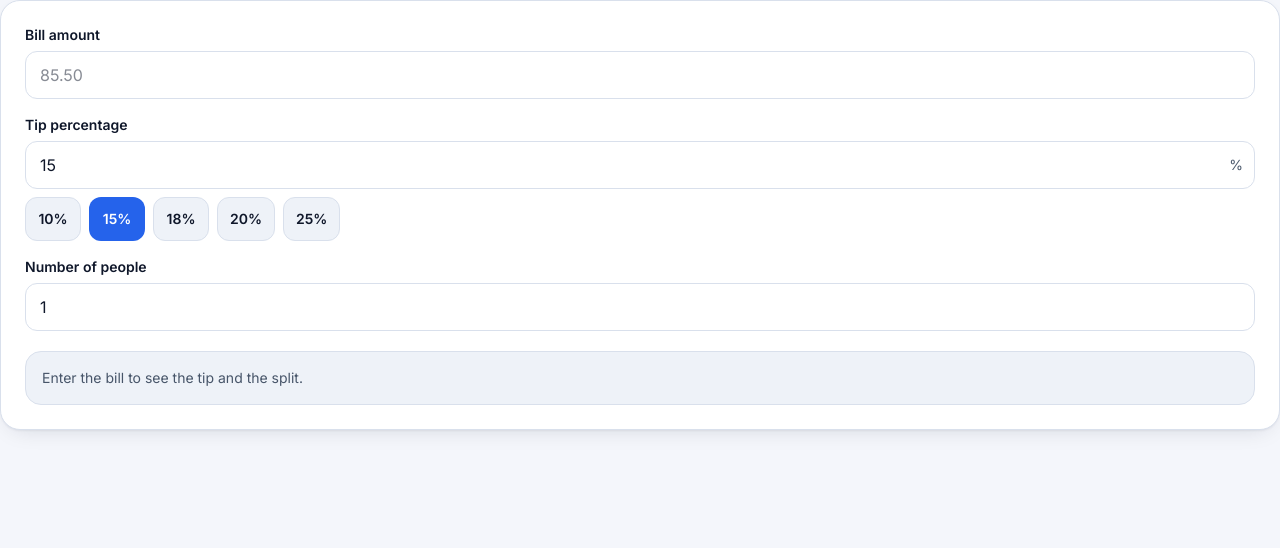
Scenario: tools › tip tool: splits 100 + 20% between 4
This screenshot has width=1280, height=548.
Type "100" into the field labelled "Bill amount". click: (640, 75)
box: [25,51,1255,99]
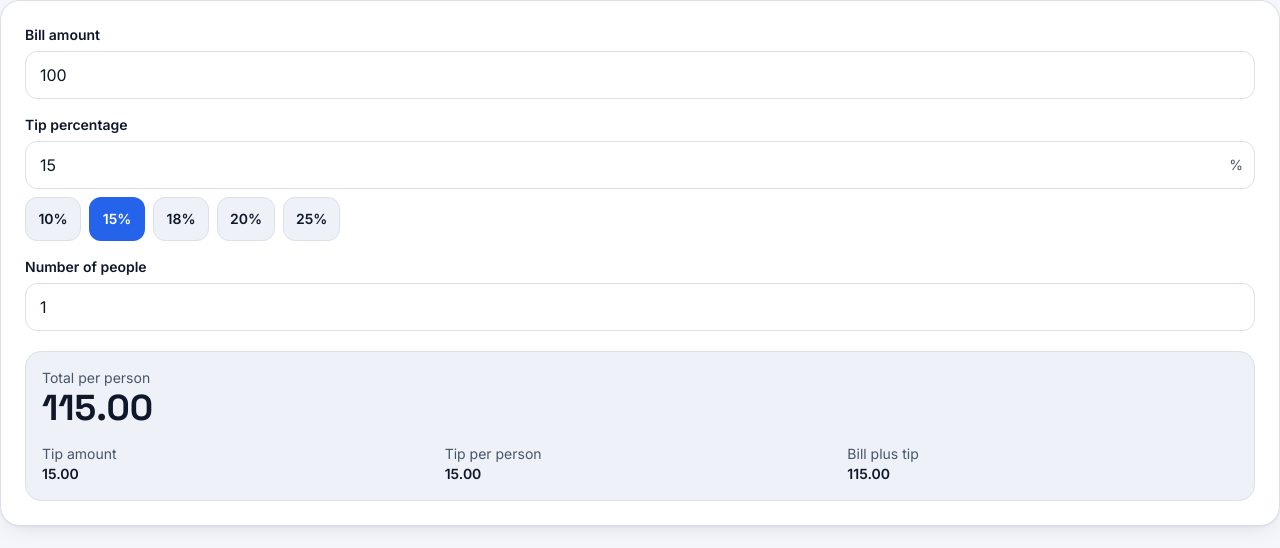
Click the button "20%". click: click(246, 219)
box: [217,197,275,241]
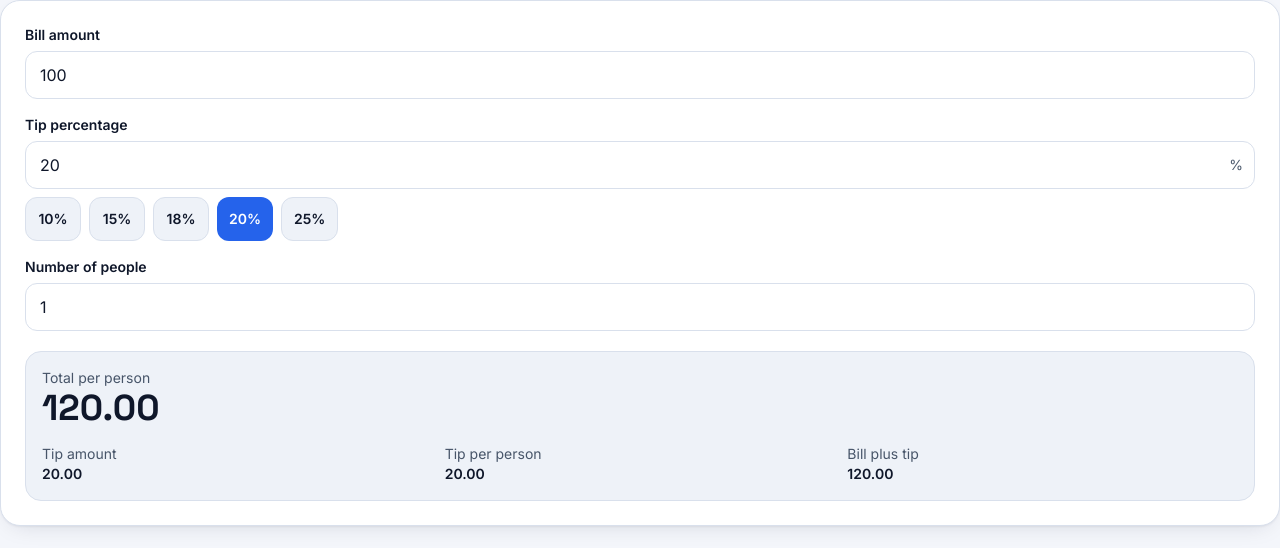
Type "4" into the field labelled "Number of people". click: (640, 307)
box: [25,283,1255,331]
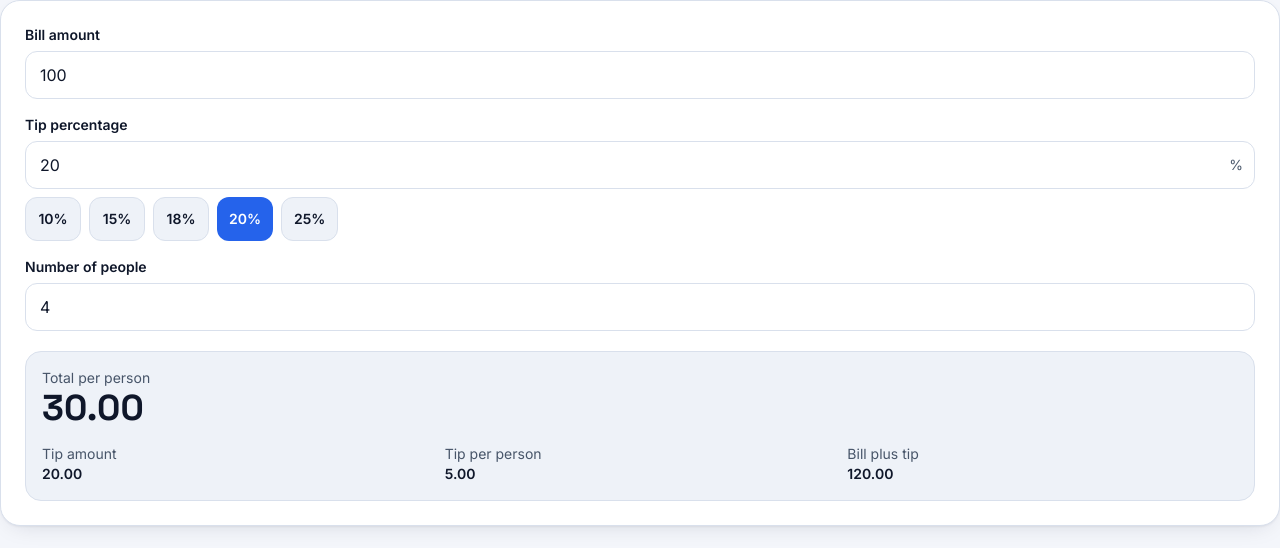
Now the text "30.00" is shown, box [42,385,144,431]
